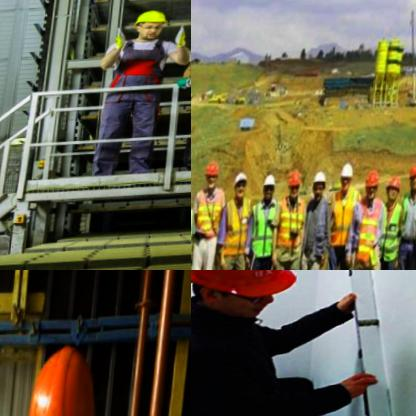helmet: (6, 331, 111, 416), (191, 270, 312, 335), (130, 6, 173, 45), (338, 162, 358, 205), (285, 169, 307, 207), (234, 169, 255, 207), (312, 171, 334, 207), (387, 176, 408, 212), (204, 160, 225, 195), (365, 172, 384, 208), (264, 174, 281, 206), (408, 164, 416, 200)
